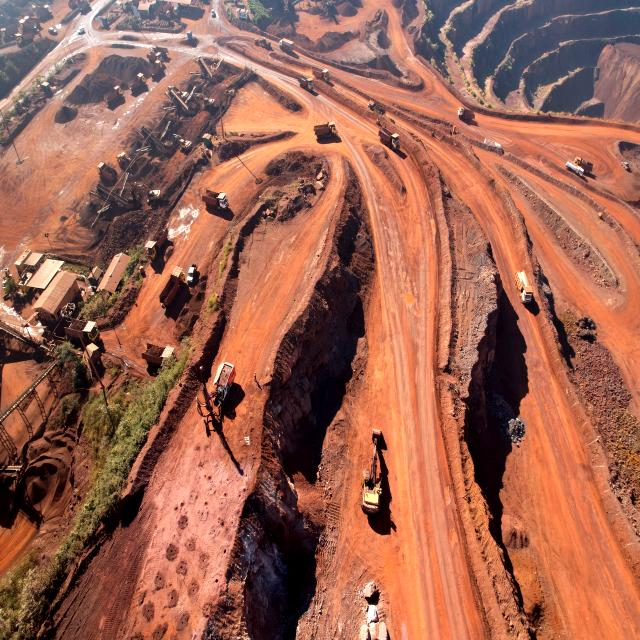Blast rig: (200, 355, 246, 422)
Dumper truck: (68, 321, 100, 344), (141, 343, 174, 365), (162, 267, 182, 303), (515, 268, 532, 302), (147, 226, 166, 256), (203, 190, 228, 212), (97, 160, 118, 182), (157, 0, 178, 21), (148, 44, 168, 66), (314, 121, 338, 139), (382, 128, 401, 148), (105, 85, 124, 104), (130, 74, 146, 92), (68, 0, 90, 12), (298, 76, 314, 90), (16, 32, 32, 46), (1, 26, 18, 39), (151, 61, 162, 80), (314, 68, 330, 81), (458, 108, 474, 121), (36, 4, 50, 18), (21, 17, 35, 30), (575, 156, 593, 166), (515, 0, 536, 6), (560, 39, 575, 46), (540, 24, 550, 32)
Excavator: (358, 425, 396, 537), (132, 182, 162, 205), (118, 149, 138, 174), (172, 133, 192, 154), (193, 92, 215, 110)
car: (186, 264, 199, 284), (78, 26, 84, 34), (210, 9, 214, 17)
person: (253, 371, 259, 381), (87, 29, 91, 35)
